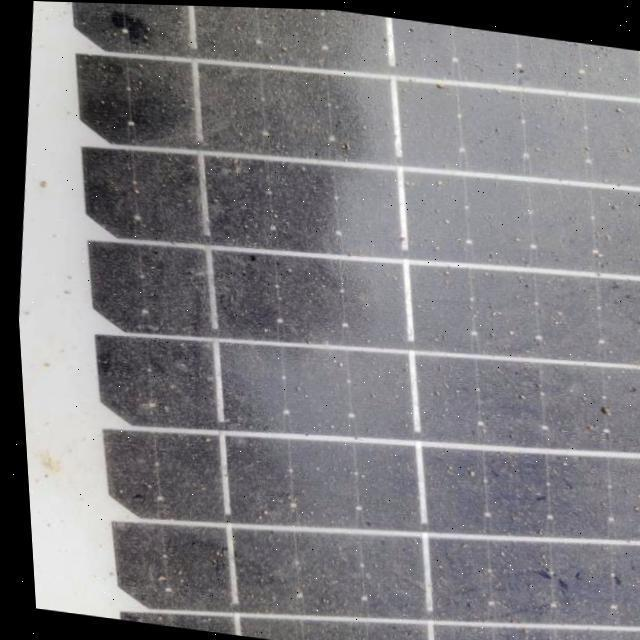Surface Contaminant: (30, 2, 640, 640)
